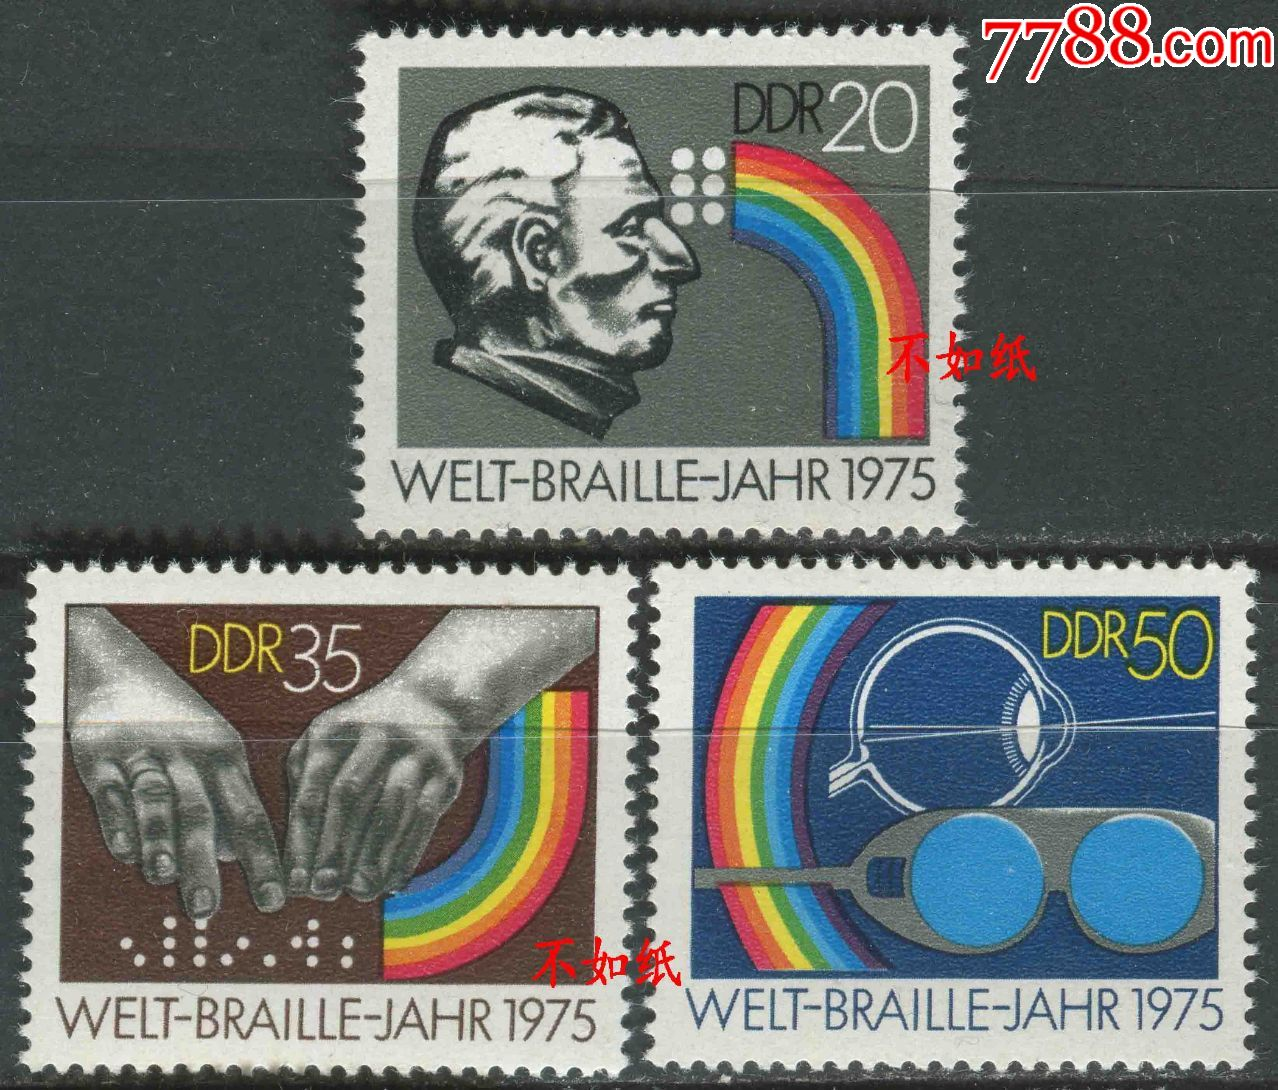Braille: (670, 142, 725, 226), (116, 913, 149, 968), (290, 916, 322, 969), (221, 917, 250, 975), (322, 919, 352, 973), (191, 916, 219, 970), (250, 918, 277, 972), (152, 913, 177, 970)
